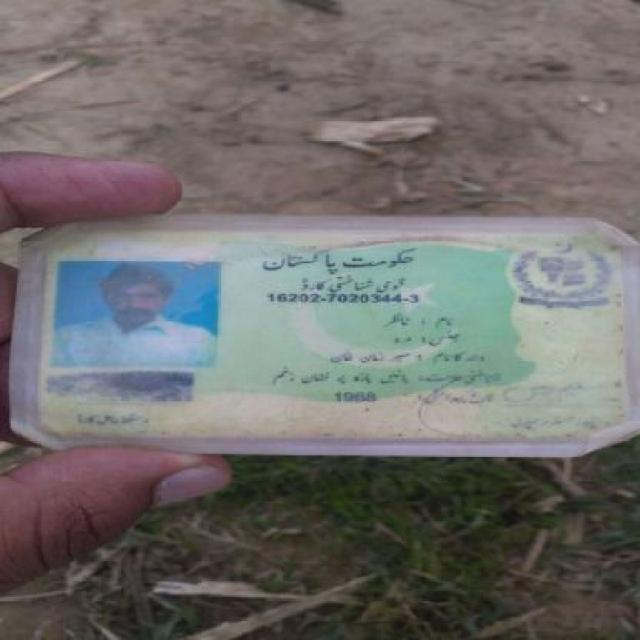Front: (24, 229, 636, 445)
